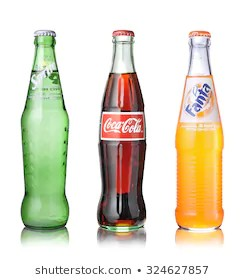coke-glass-bottle: (94, 29, 151, 234)
